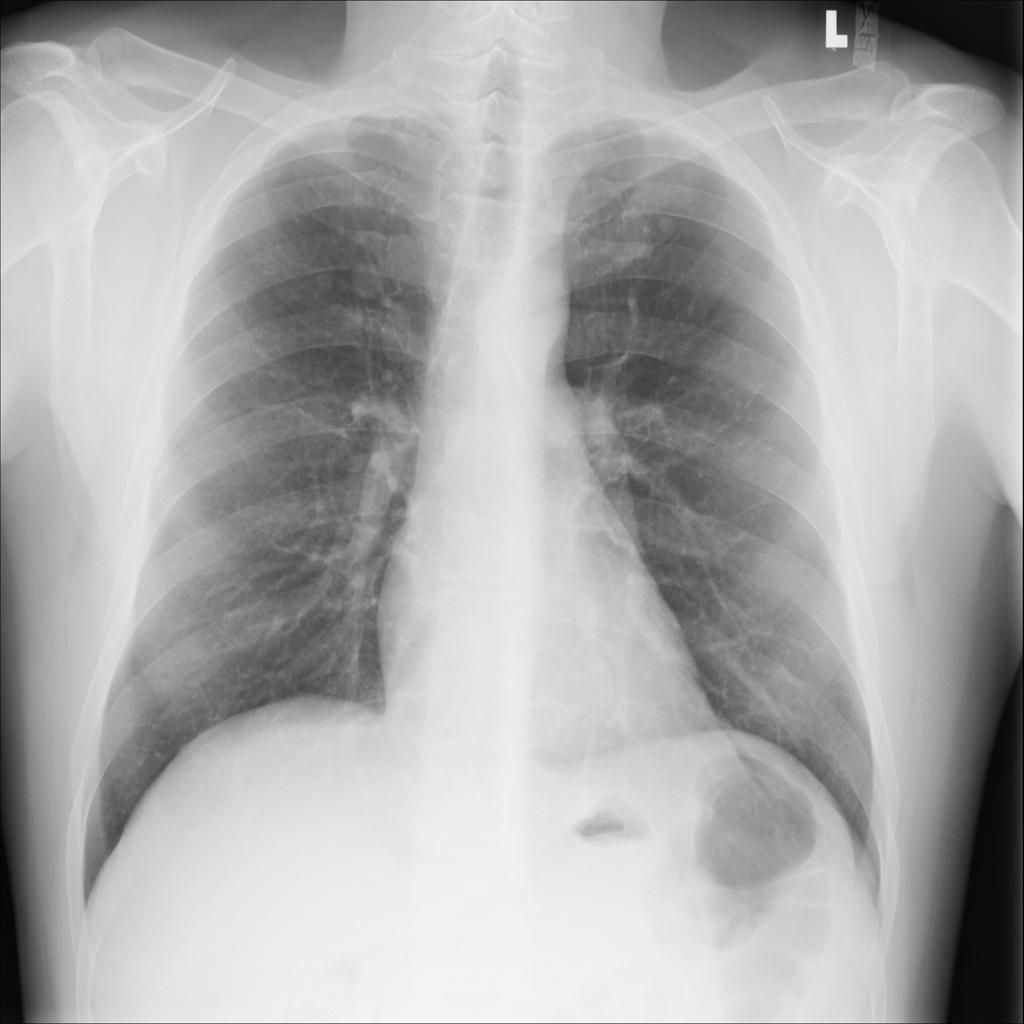nodule: (336, 249, 388, 301), (298, 250, 344, 303), (645, 207, 686, 243)
